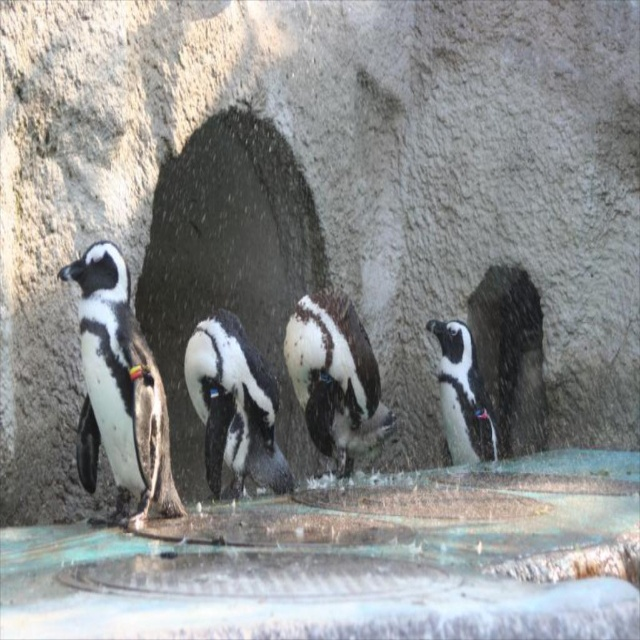Penguin: (62, 241, 174, 526), (180, 289, 298, 496), (281, 263, 389, 473), (421, 299, 500, 474)
